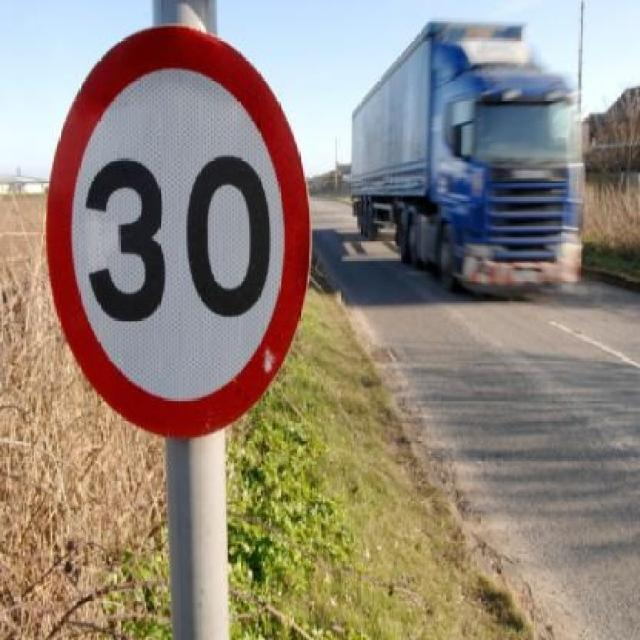forb_speed_over_30: (48, 27, 309, 436)
